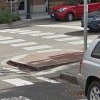crosswalk: (10, 29, 94, 45), (0, 35, 52, 50), (0, 76, 61, 86)
